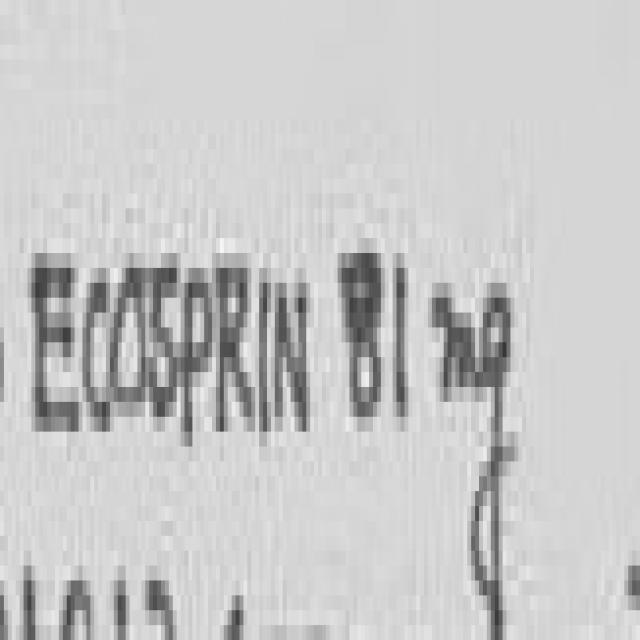1: (396, 264, 407, 423)
8: (348, 246, 382, 417)
C: (86, 283, 110, 432)
E: (35, 268, 79, 432)
I: (259, 283, 268, 432)
N: (279, 283, 307, 426)
O: (110, 268, 148, 419)
P: (185, 283, 212, 447)
R: (220, 268, 255, 424)
S: (149, 268, 177, 417)
g: (475, 298, 514, 640)
m: (436, 298, 478, 402)
